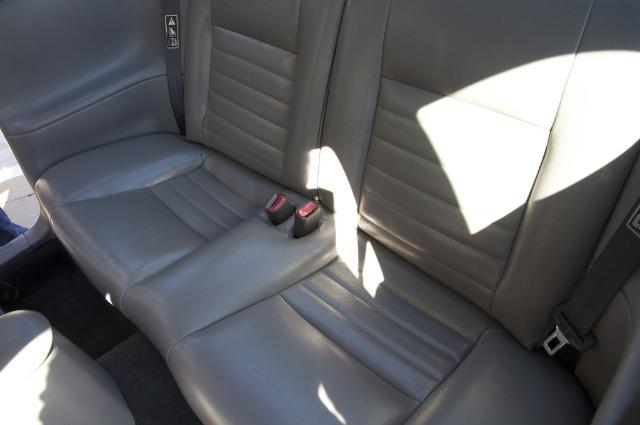Seatbelt: (534, 200, 640, 366), (162, 0, 184, 136)
